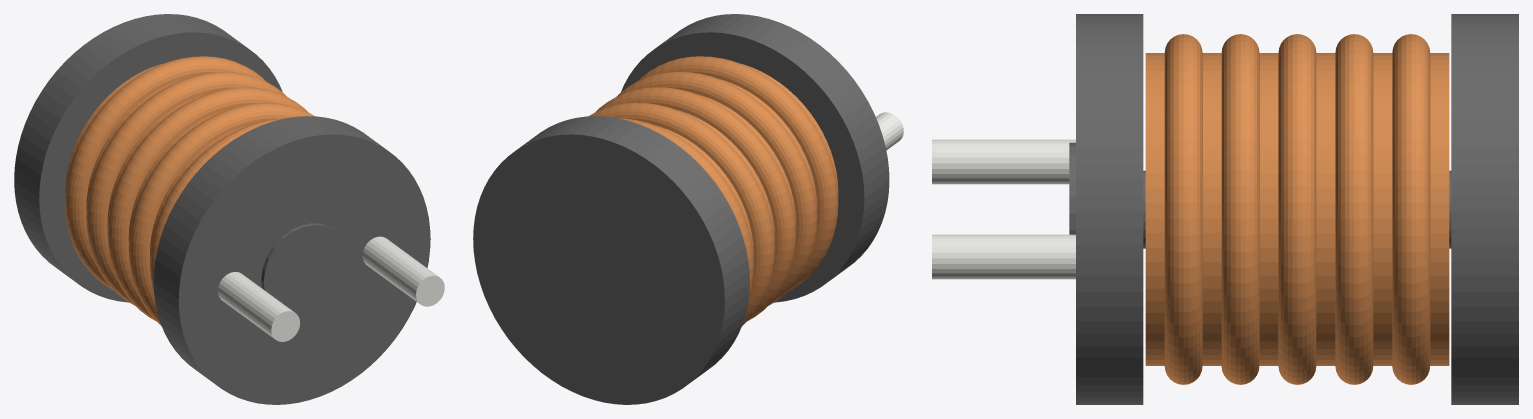
Rendered from L_Radial_D8.7mm_P5.00mm_Fastron_07HCP.glb.
3 views of the same model, side by side, from view 1: azimuth 30°, elevation 25°; view 2: azimuth 150°, elevation 25°; view 3: azimuth 270°, elevation 25° (orthographic). The views are drawn at different scales.
Visible parts, largest first — view 1: Shape_IndexedFaceSet.009, Shape_IndexedFaceSet.024, Shape_IndexedFaceSet.007, Shape_IndexedFaceSet.025, Shape_IndexedFaceSet.020, Shape_IndexedFaceSet.018, Shape_IndexedFaceSet.010, Shape_IndexedFaceSet.006, Shape_IndexedFaceSet.016, Shape_IndexedFaceSet.013, Shape_IndexedFaceSet.011, Shape_IndexedFaceSet.002 (+7 smaller); view 2: Shape_IndexedFaceSet.026, Shape_IndexedFaceSet.005, Shape_IndexedFaceSet.025, Shape_IndexedFaceSet.007, Shape_IndexedFaceSet.002, Shape_IndexedFaceSet.006, Shape_IndexedFaceSet.010, Shape_IndexedFaceSet.018, Shape_IndexedFaceSet.020, Shape_IndexedFaceSet.013, Shape_IndexedFaceSet.004, Shape_IndexedFaceSet.008 (+3 smaller); view 3: Shape_IndexedFaceSet.007, Shape_IndexedFaceSet.025, Shape_IndexedFaceSet.010, Shape_IndexedFaceSet.006, Shape_IndexedFaceSet.002, Shape_IndexedFaceSet.018, Shape_IndexedFaceSet.020, Shape_IndexedFaceSet.011, Shape_IndexedFaceSet.013, Shape_IndexedFaceSet, Shape_IndexedFaceSet.004, Shape_IndexedFaceSet.008 (+4 smaller).
Boxes of the visible parts, bbox=[...] form: Shape_IndexedFaceSet.009: bbox=[178, 134, 429, 404]; Shape_IndexedFaceSet.024: bbox=[39, 32, 281, 301]; Shape_IndexedFaceSet.007: bbox=[153, 116, 430, 404]; Shape_IndexedFaceSet.025: bbox=[14, 14, 282, 302]; Shape_IndexedFaceSet.020: bbox=[65, 56, 265, 290]; Shape_IndexedFaceSet.018: bbox=[86, 71, 286, 305]; Shape_IndexedFaceSet.010: bbox=[107, 87, 308, 321]; Shape_IndexedFaceSet.006: bbox=[128, 102, 314, 326]; Shape_IndexedFaceSet.016: bbox=[263, 225, 350, 317]; Shape_IndexedFaceSet.013: bbox=[218, 272, 294, 338]; Shape_IndexedFaceSet.011: bbox=[362, 236, 438, 303]; Shape_IndexedFaceSet.002: bbox=[150, 118, 284, 296]; Shape_IndexedFaceSet.026: bbox=[473, 134, 724, 404]; Shape_IndexedFaceSet.005: bbox=[621, 32, 864, 301]; Shape_IndexedFaceSet.025: bbox=[473, 116, 749, 404]; Shape_IndexedFaceSet.007: bbox=[621, 14, 889, 302]; Shape_IndexedFaceSet.002: bbox=[637, 56, 838, 290]; Shape_IndexedFaceSet.006: bbox=[616, 71, 817, 305]; Shape_IndexedFaceSet.010: bbox=[595, 87, 795, 321]; Shape_IndexedFaceSet.018: bbox=[589, 102, 774, 325]; Shape_IndexedFaceSet.020: bbox=[619, 118, 753, 296]; Shape_IndexedFaceSet.013: bbox=[876, 112, 903, 150]; Shape_IndexedFaceSet.004: bbox=[720, 79, 817, 209]; Shape_IndexedFaceSet.008: bbox=[700, 95, 795, 227]; Shape_IndexedFaceSet.007: bbox=[1076, 14, 1143, 404]; Shape_IndexedFaceSet.025: bbox=[1451, 14, 1518, 404]; Shape_IndexedFaceSet.010: bbox=[1278, 34, 1316, 384]; Shape_IndexedFaceSet.006: bbox=[1221, 34, 1259, 384]; Shape_IndexedFaceSet.002: bbox=[1164, 34, 1202, 384]; Shape_IndexedFaceSet.018: bbox=[1335, 34, 1373, 384]; Shape_IndexedFaceSet.020: bbox=[1392, 34, 1430, 384]; Shape_IndexedFaceSet.011: bbox=[932, 234, 1075, 279]; Shape_IndexedFaceSet.013: bbox=[932, 139, 1075, 184]; Shape_IndexedFaceSet: bbox=[1145, 53, 1164, 365]; Shape_IndexedFaceSet.004: bbox=[1202, 53, 1221, 365]; Shape_IndexedFaceSet.008: bbox=[1259, 53, 1278, 365].
Bounding box in the file's own units: 3.43 × 3.42 × 5.14.
